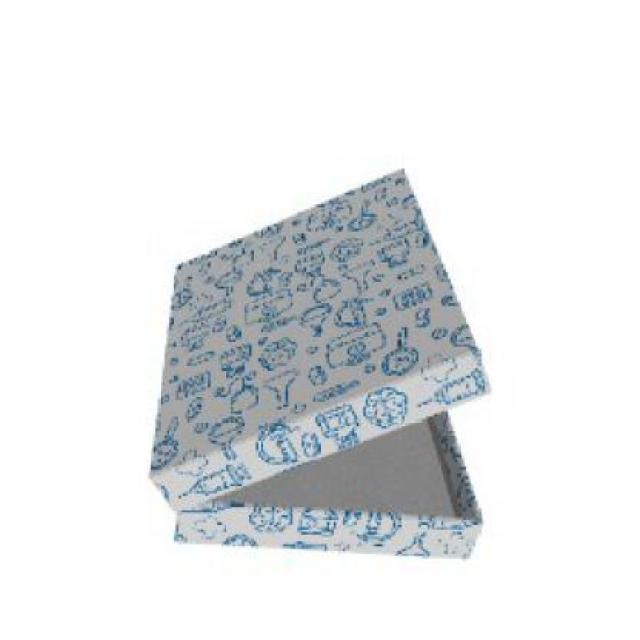box: (140, 165, 509, 588)
